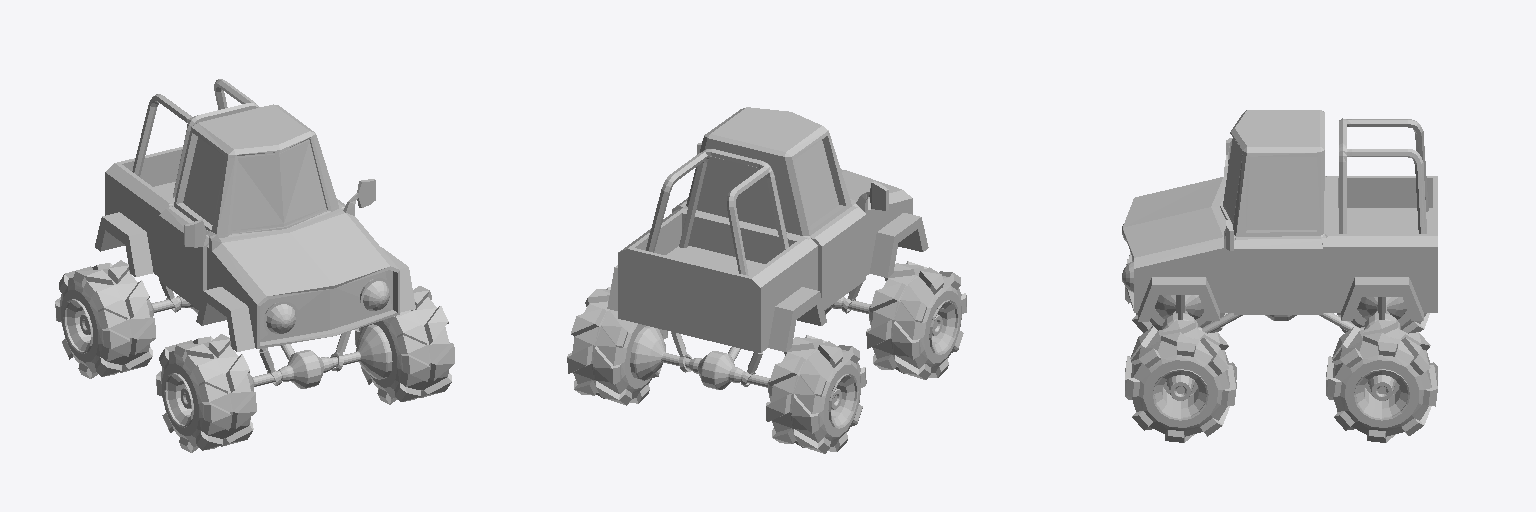
File: Geep.obj
The picture shows the model from 3 angles: view 1: azimuth 30°, elevation 25°; view 2: azimuth 150°, elevation 25°; view 3: azimuth 270°, elevation 25°; orthographic projection.
Visible parts, largest first — view 1: Cube_Cube.002, Cylinder.003, Cylinder.002, Cylinder, Cube.001_Cube.004, Cube.006_Cube.001, Circle.002, Circle.003, Cube.005_Cube.008; view 2: Cube_Cube.002, Cylinder.002, Cylinder.003, Cylinder.001, Cube.006_Cube.001, Cube.002_Cube.005, Circle.003, Circle.002, Cube.005_Cube.008; view 3: Cube_Cube.002, Cylinder.001, Cylinder, Cube.006_Cube.001, Circle, Circle.001, Cube.001_Cube.004, Cube.002_Cube.005, Cube.003_Cube.006, Cylinder.003, Cylinder.002.
Part boxes in pixels (x1,y1,x2,y2): Cube_Cube.002: (95,104,415,351); Cylinder.003: (156,334,256,452); Cylinder.002: (55,260,155,378); Cylinder: (355,286,454,404); Cube.001_Cube.004: (247,324,392,391); Cube.006_Cube.001: (132,79,259,197); Circle.002: (63,299,92,353); Circle.003: (164,373,193,427); Cube.005_Cube.008: (160,282,350,385); Cube_Cube.002: (607,107,928,352); Cylinder.002: (766,335,866,453); Cylinder.003: (866,261,966,379); Cylinder.001: (567,287,667,405); Cube.006_Cube.001: (646,149,788,275); Cube.002_Cube.005: (630,326,772,400); Circle.003: (929,300,958,354); Circle.002: (828,374,858,428); Cube.005_Cube.008: (671,283,862,386); Cube_Cube.002: (1122,110,1437,321); Cylinder.001: (1326,320,1437,442); Cylinder: (1125,320,1236,442); Cube.006_Cube.001: (1339,118,1428,233); Circle: (1153,369,1208,420); Circle.001: (1354,369,1409,420); Cube.001_Cube.004: (1155,295,1203,329); Cube.002_Cube.005: (1357,297,1406,329); Cube.003_Cube.006: (1198,313,1364,333); Cylinder.003: (1125,259,1227,332); Cylinder.002: (1337,310,1429,333).
Size of the model in its own units: 5.9 by 5.64 by 6.34.